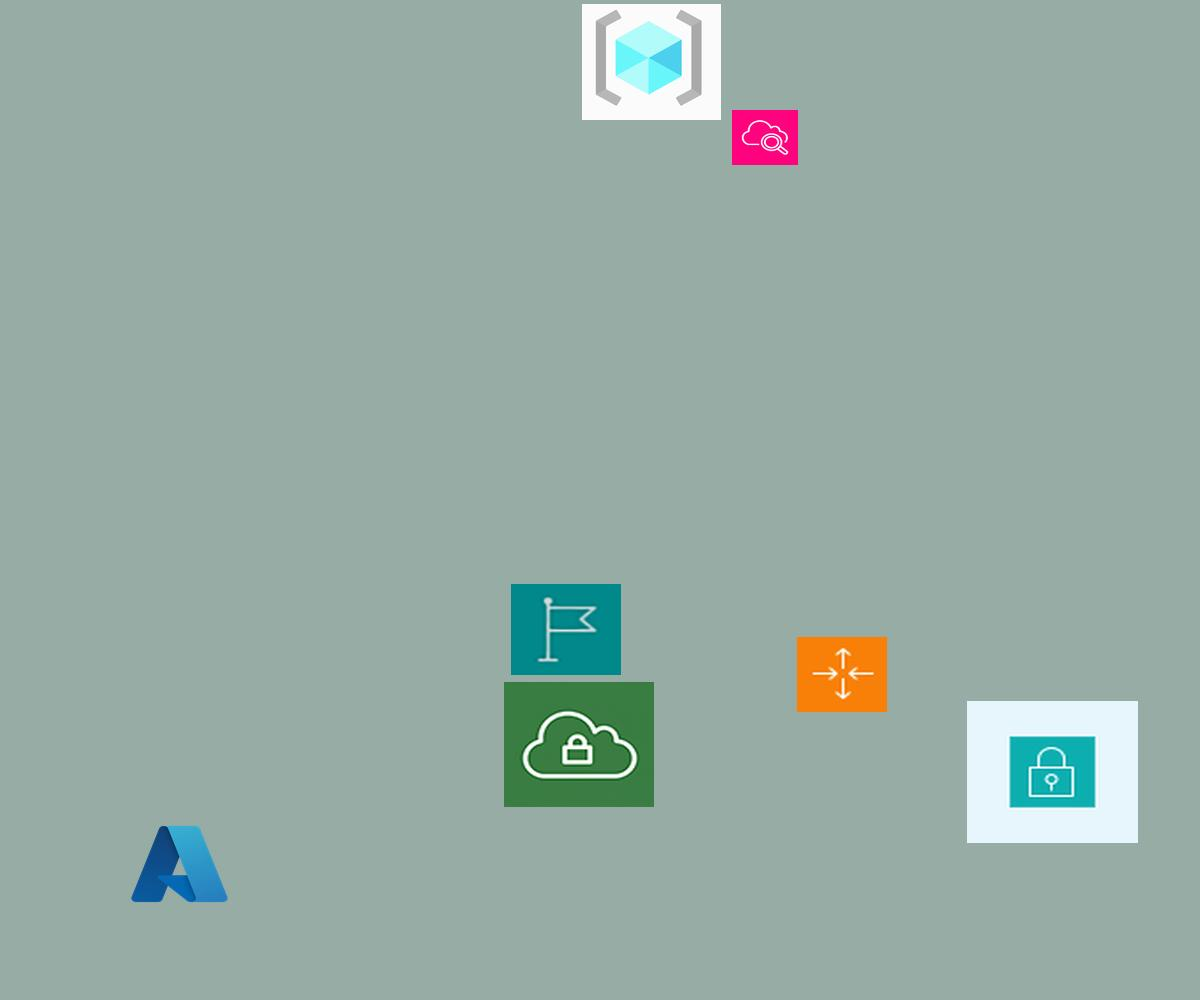AWS-CloudWatch: (732, 110, 798, 165)
AWS-Private-subnet: (967, 701, 1138, 843)
AWS-Private_vpc: (504, 682, 654, 807)
AWS-Region: (511, 584, 621, 675)
AWS-Scaling-group: (797, 637, 887, 712)
Azure_resource_group: (582, 4, 721, 120)
Azure_services: (127, 820, 232, 908)
